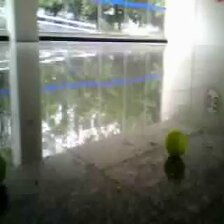tennis: (164, 128, 186, 156)
